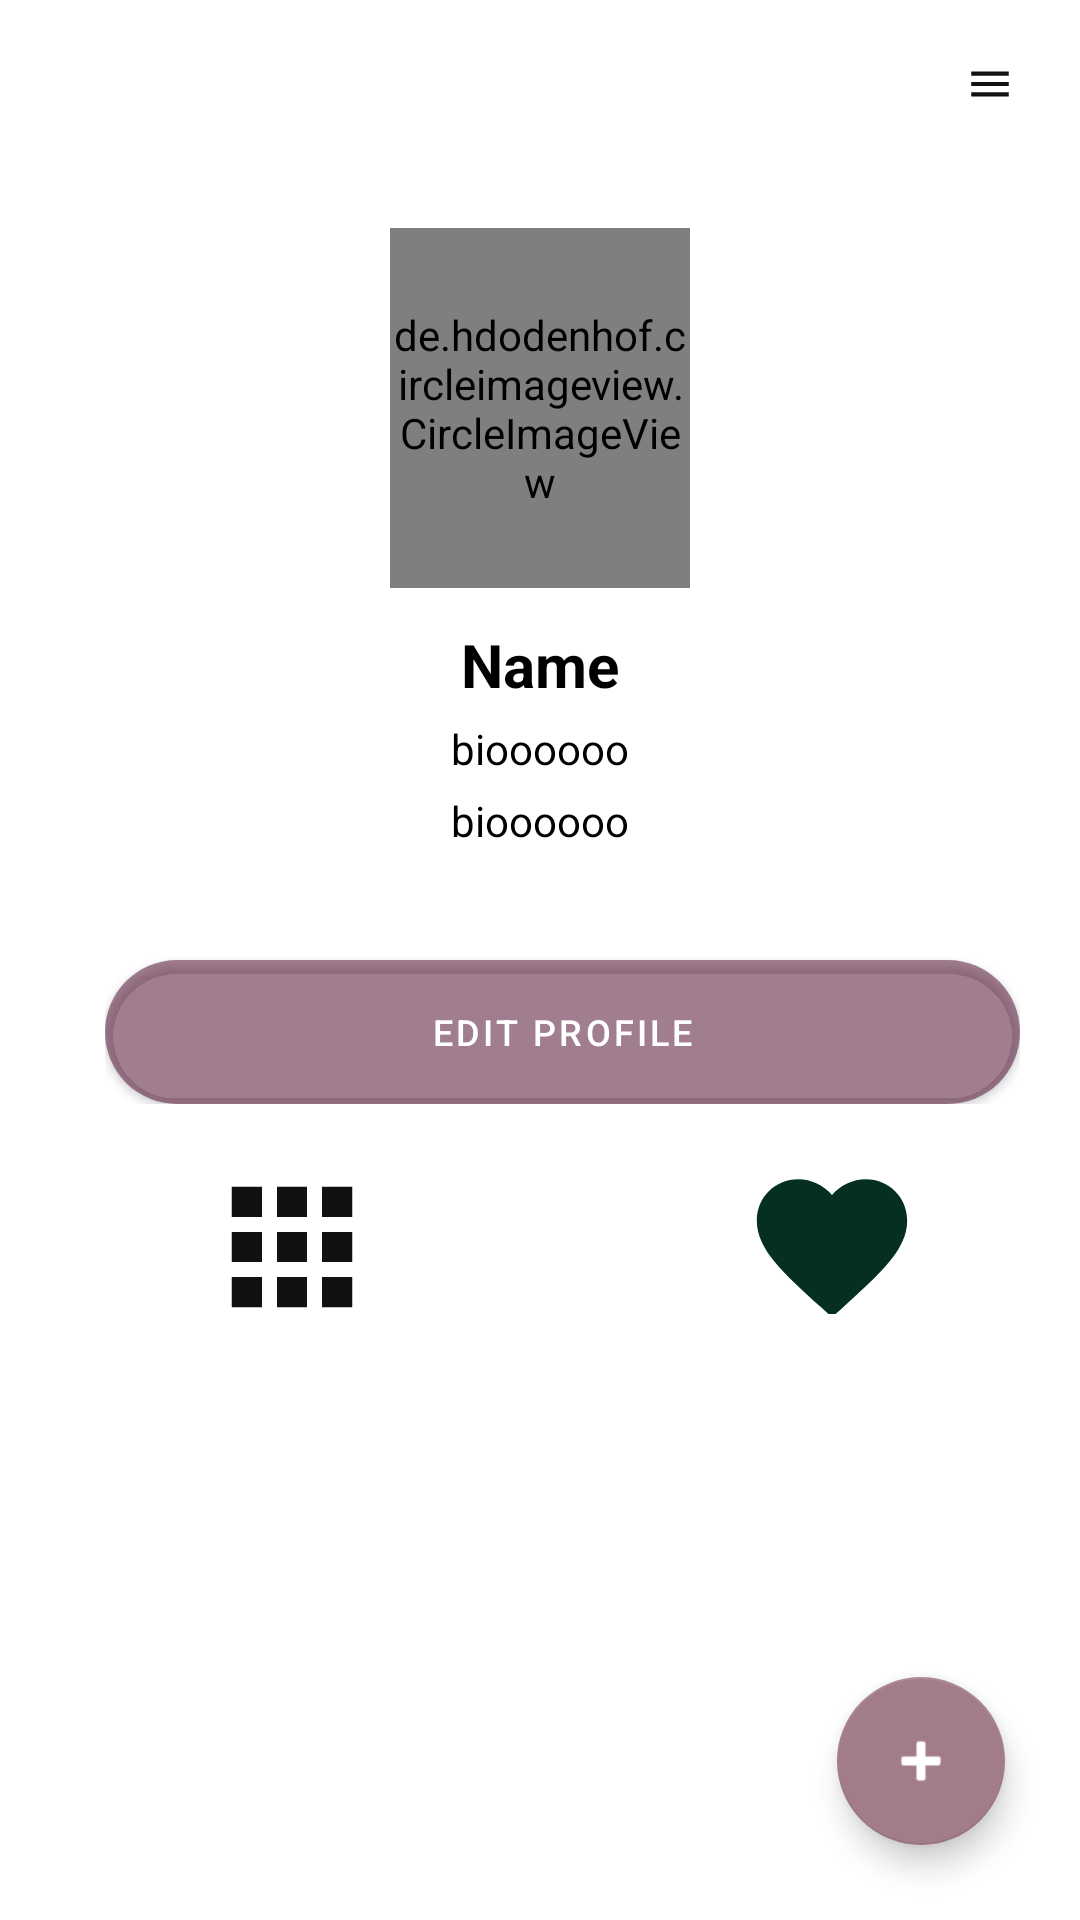

Locate icon controls on the screen. Image size 1080px x 1920px, boxes as (x1, y1, x2, y2).
add: (837, 1677, 1005, 1845)
heartfilled: (756, 1179, 908, 1314)
options: (971, 71, 1009, 97)
pictures: (231, 1186, 353, 1308)
